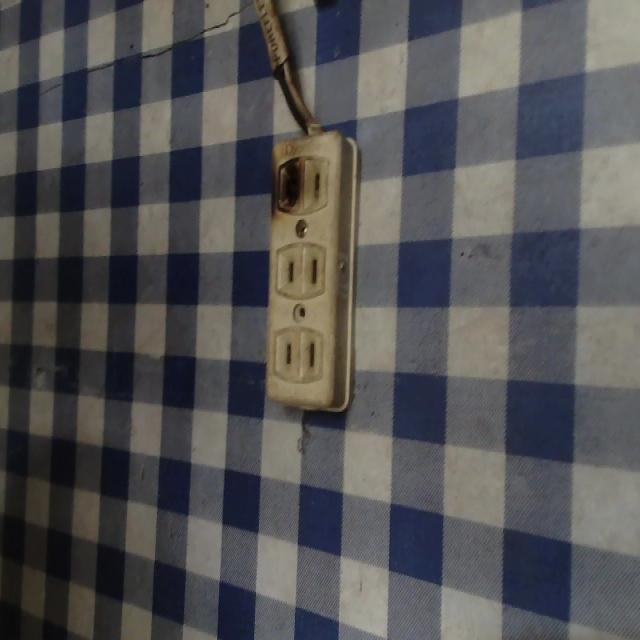-: (271, 152, 308, 215)
